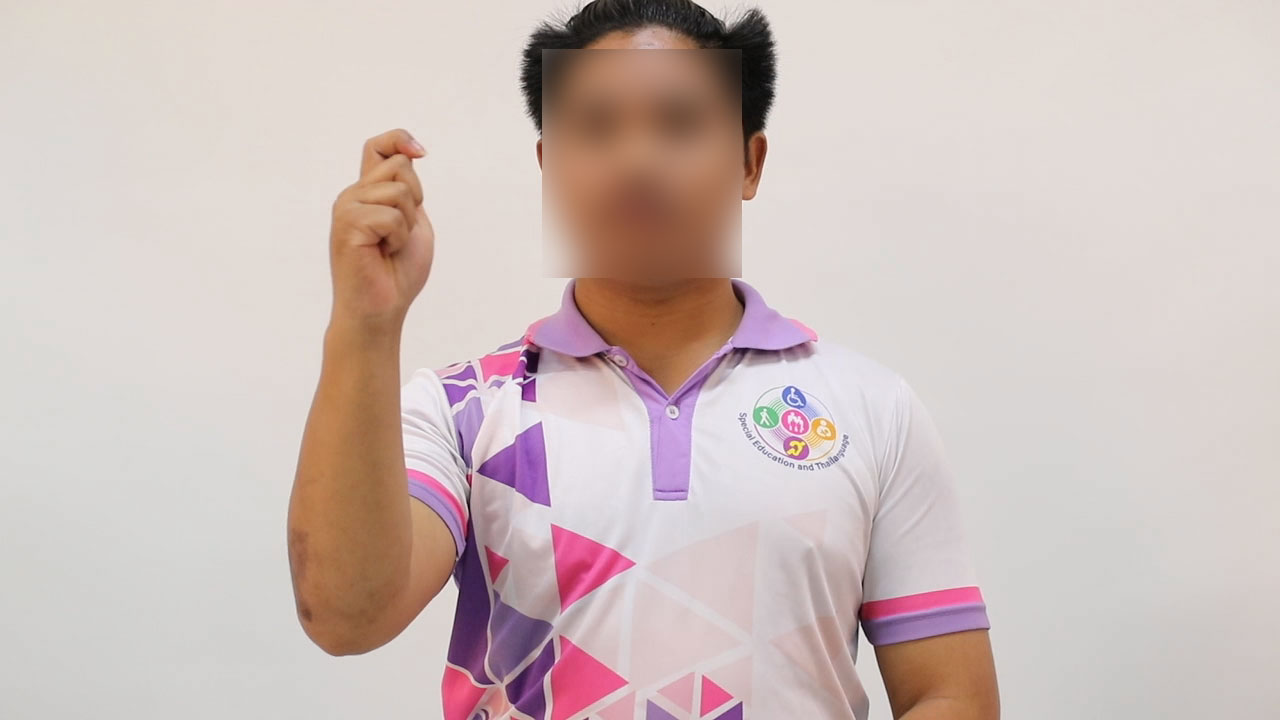or: (317, 126, 439, 337)
